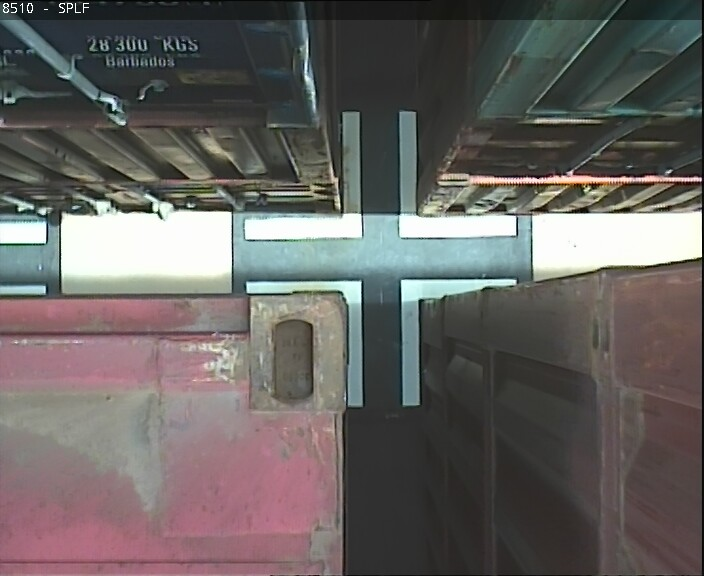groundmarker_1: (244, 275, 515, 408), (246, 110, 517, 243)
